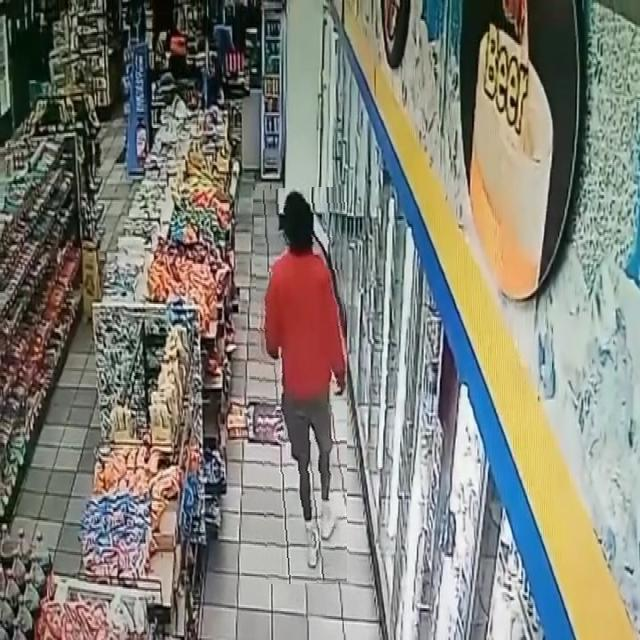normal: (256, 187, 347, 584)
